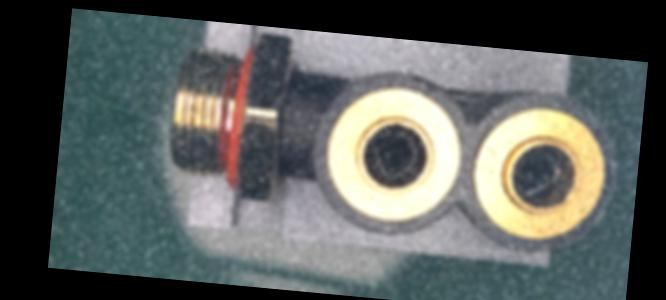bump: (408, 73, 444, 92)
off-centered: (365, 126, 423, 182), (507, 146, 568, 199)
white mark: (288, 133, 307, 150)
